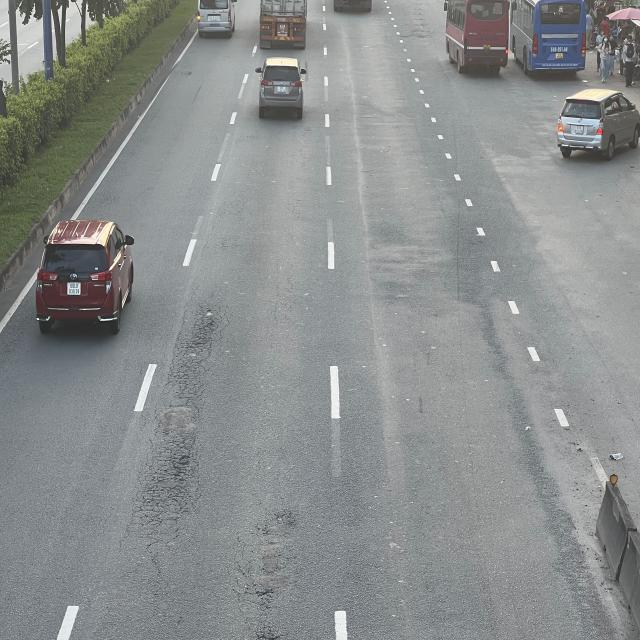car: (35, 219, 136, 334), (555, 91, 638, 161), (255, 54, 308, 116)
coach: (510, 2, 589, 77), (446, 0, 514, 69)
container: (258, 0, 309, 46)
van: (196, 0, 238, 37)
